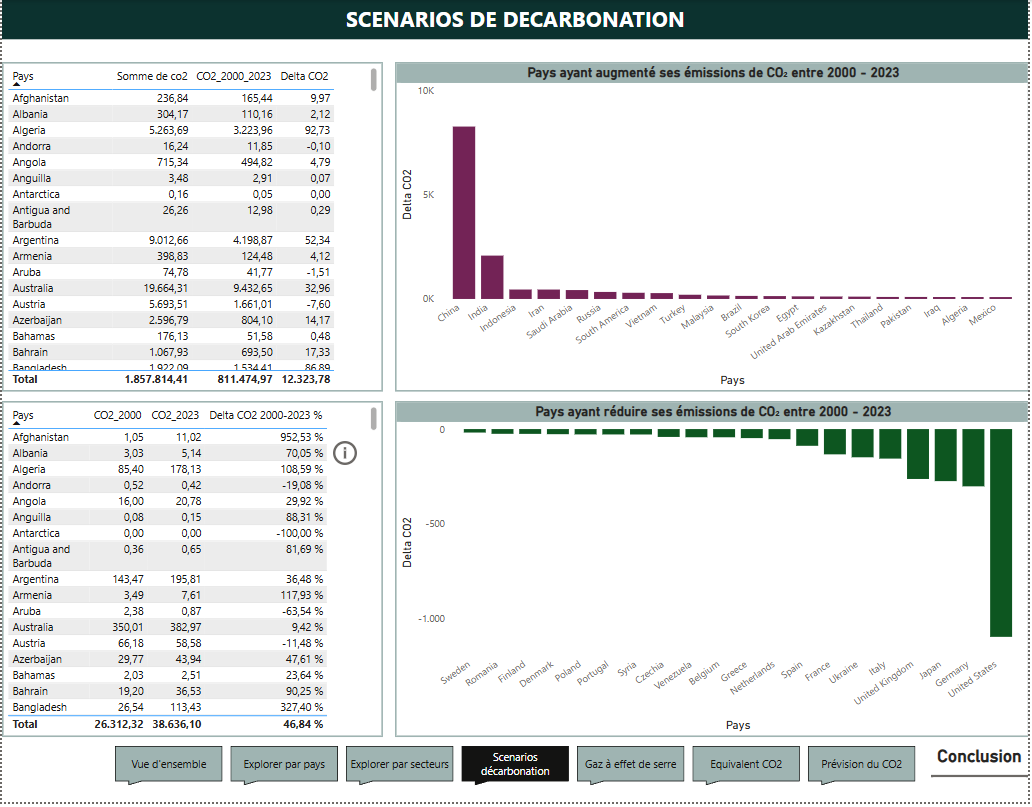

The page's visual inventory and layout, read from the dashboard file:
{"tool":"powerbi","page":{"name":"Scenarios décarbonation","canvas":[1280,1000],"ordinal":3},"visuals":[{"type":"tableEx","fields":{"Values":["Data.Pays","Sum(Data.co2)","DAX.CO2_2000_2023","DAX.Delta CO2"]},"box":[0,77.3,475.1,411.5],"z":0},{"type":"clusteredColumnChart","title":"Pays ayant augmenté ses émissions de CO₂ entre  2000 - 2023","fields":{"Category":["Data.Pays"],"Y":["DAX.Delta CO2"]},"box":[490,77.3,790.5,411.5],"z":1000},{"type":"clusteredColumnChart","title":"Pays ayant réduire ses émissions de CO₂ entre 2000 - 2023","fields":{"Category":["Data.Pays"],"Y":["DAX.Delta CO2"]},"box":[490,500,790.5,419],"z":2000},{"type":"textbox","box":[0,0,1280.5,48.6],"z":3000},{"type":"tableEx","fields":{"Values":["Data.Pays","DAX.CO2_2000","DAX.CO2_2023","DAX.Delta CO2 2000-2023 %"]},"box":[0,500,475.1,419],"z":3000,"group":"g1"},{"type":"pageNavigator","box":[140.9,930.2,1000,49.9],"z":4000},{"type":"group","id":"g1","title":"Groupe 1","box":[0,500,475.1,419],"z":5000},{"type":"actionButton","box":[407.7,544.9,53.6,39.9],"z":5000,"group":"g1"},{"type":"actionButton","title":"Conclusion","box":[1158.8,930.5,121,39.2],"z":6000}]}

Visuals, with their boxes in screenshot pixels (x1, y1, x2, y2), scaled from the page's 1280x1000 canvas onto the 1032x807 screenshot:
tableEx - Data.Pays x Sum(Data.co2): 0:62:383:394
"Pays ayant augmenté ses émissions de CO₂ entre  2000 - 2023" clusteredColumnChart: 395:62:1031:394
"Pays ayant réduire ses émissions de CO₂ entre 2000 - 2023" clusteredColumnChart: 395:404:1031:742
textbox: 0:0:1031:39
tableEx - Data.Pays x DAX.CO2_2000: 0:404:383:742
pageNavigator: 114:751:920:791
"Groupe 1" group: 0:404:383:742
actionButton: 329:440:372:472
"Conclusion" actionButton: 934:751:1031:783
